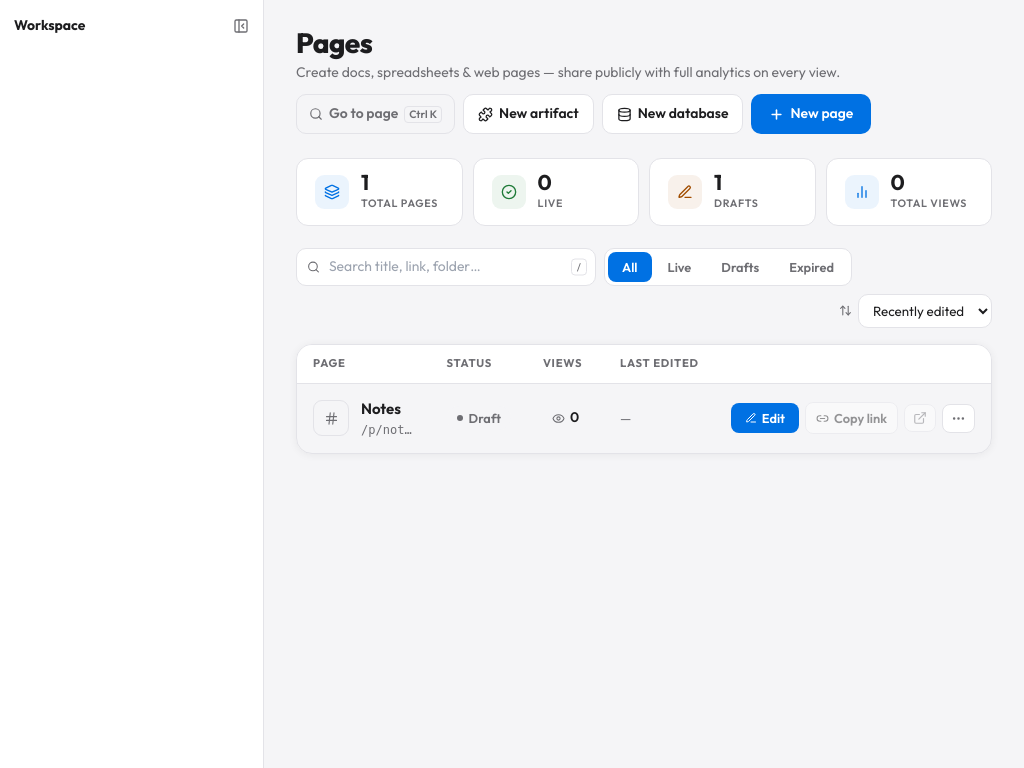
Test: Convert to blocks › new pages start as block documents
This screenshot has width=1024, height=768.
Click the button "New page" at (811, 114), box x1=752 y1=94 x2=871 y2=134
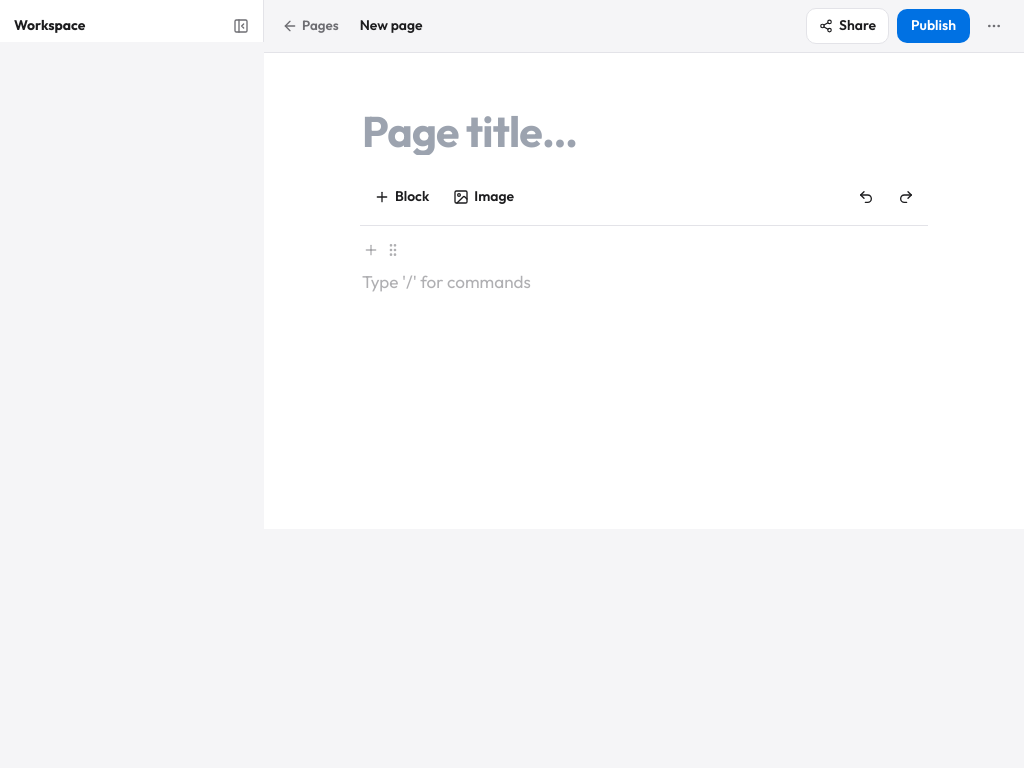
Result: the text box labelled "Page title" is shown at x1=360 y1=106 x2=928 y2=154
Click the button named "More page options" at (994, 26), box x1=978 y1=12 x2=1010 y2=40
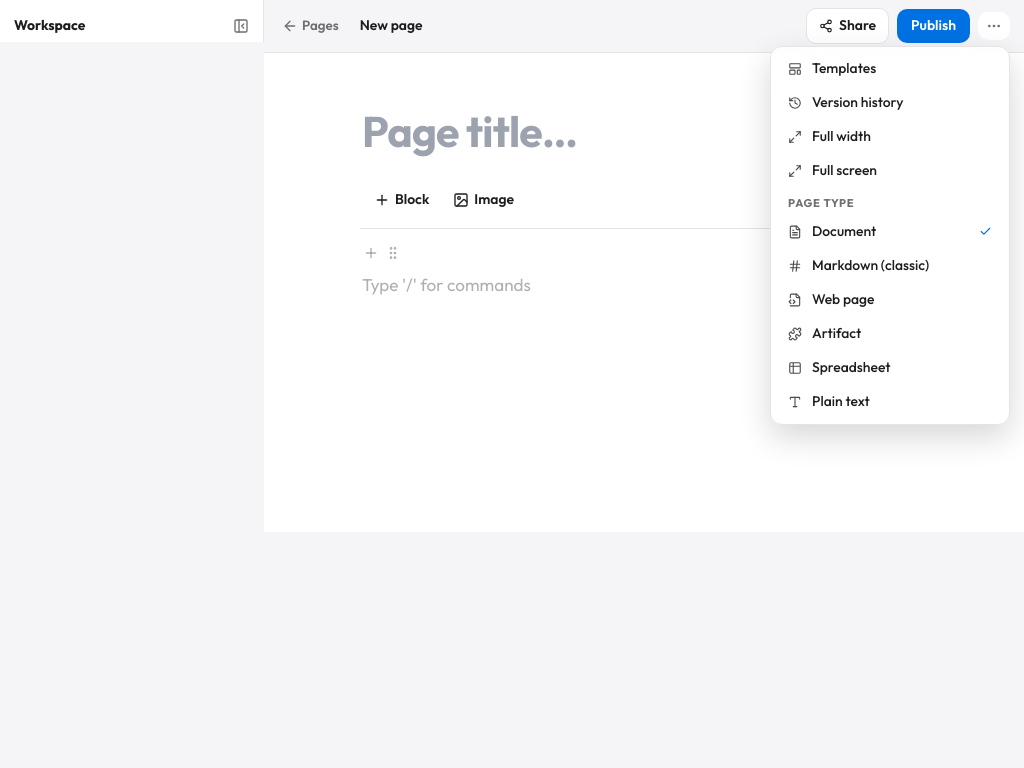
Result: the field named "Document" is shown at x1=360 y1=269 x2=928 y2=532
Result: the menu item "Markdown (classic)" is shown at x1=776 y1=248 x2=1004 y2=282
